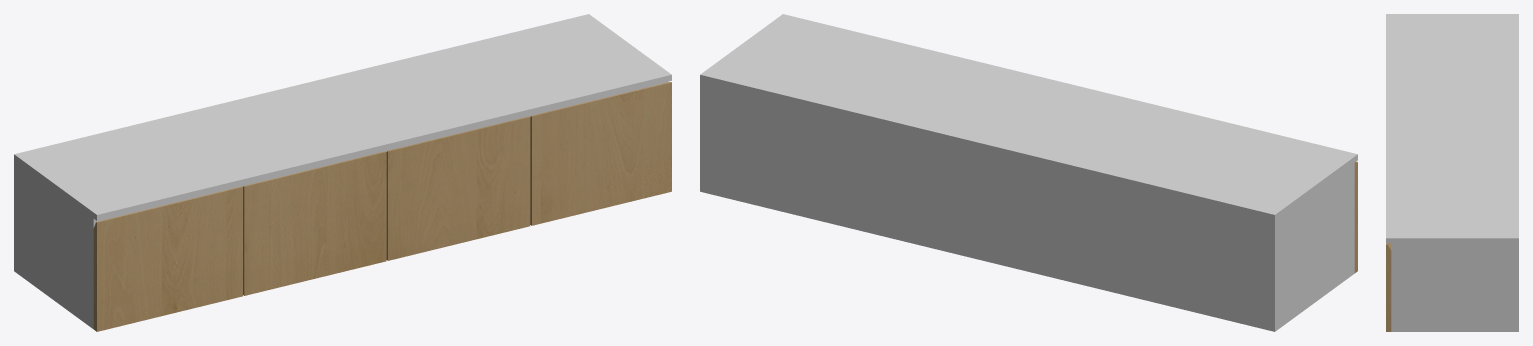
Rendered from tv-unit-1800.glb.
3 views of the same model, side by side, from view 1: azimuth 30°, elevation 25°; view 2: azimuth 150°, elevation 25°; view 3: azimuth 270°, elevation 25° (orthographic). The views are drawn at different scales.
Parts seen in each view (by area): view 1: Mesh_2_group, Mesh_1_group, Mesh_0_group; view 2: Mesh_0_group, Mesh_1_group; view 3: Mesh_1_group, Mesh_0_group, Mesh_2_group.
Part boxes in pixels (x1,y1,x2,y2): Mesh_2_group: (93, 82, 671, 331); Mesh_1_group: (14, 14, 671, 220); Mesh_0_group: (14, 81, 668, 328); Mesh_0_group: (700, 81, 1354, 331); Mesh_1_group: (700, 14, 1357, 220); Mesh_1_group: (1386, 14, 1518, 243); Mesh_0_group: (1391, 243, 1518, 331); Mesh_2_group: (1386, 243, 1391, 331).
Size of the model in its own units: 1.8 by 0.35 by 0.45.
2 materials, 1 textured.
